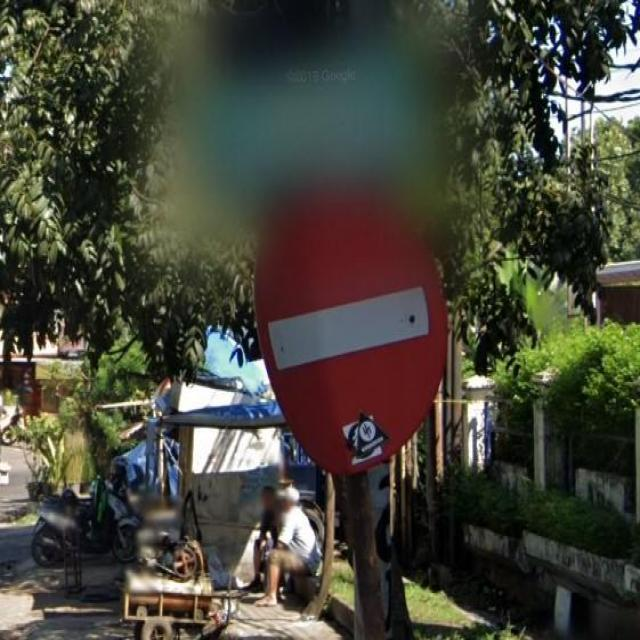traffic sign: (257, 252, 443, 474)
